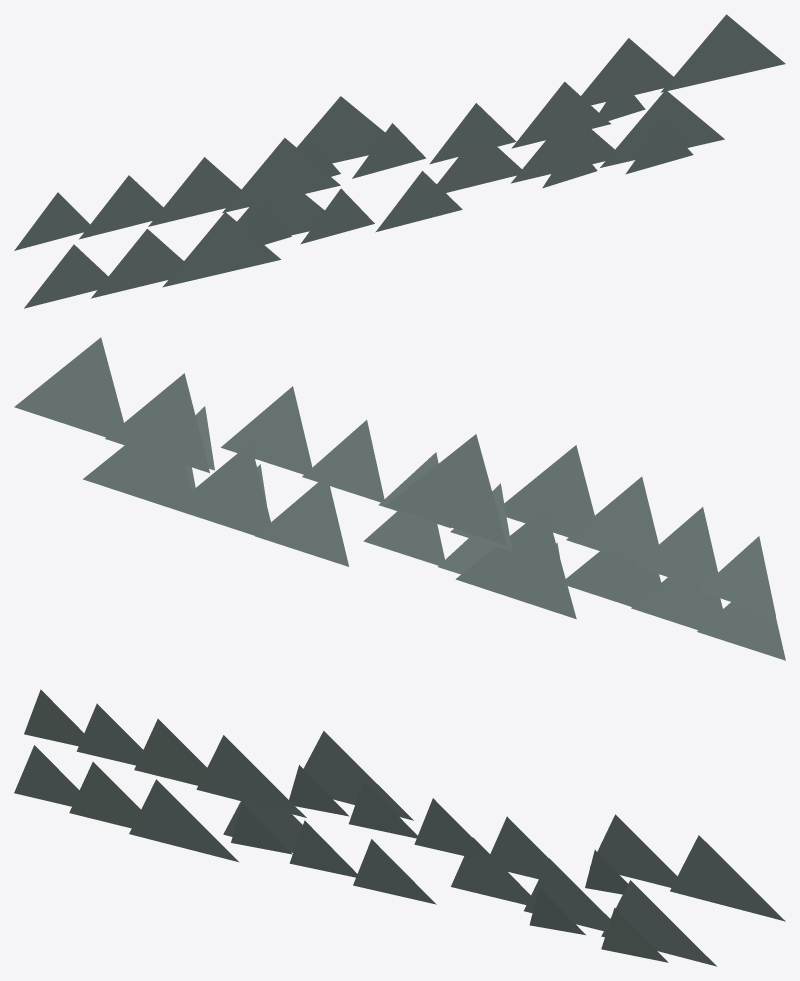
The model's file is prop_bulk_gen_0880_lod0.gltf.
The picture shows the model from 3 angles, top to bottom: view 1: azimuth 30°, elevation 25°; view 2: azimuth 150°, elevation 25°; view 3: azimuth 330°, elevation 25°; orthographic projection.
Parts seen in each view (by area): view 1: prop_bulk_gen_0880_lod0; view 2: prop_bulk_gen_0880_lod0; view 3: prop_bulk_gen_0880_lod0.
Boxes of the visible parts, x1,y1,x2,y2 form: prop_bulk_gen_0880_lod0: [14, 14, 785, 308]; prop_bulk_gen_0880_lod0: [14, 337, 785, 660]; prop_bulk_gen_0880_lod0: [14, 689, 785, 966].
Bounding box in the file's own units: 0.8163 × 0.1458 × 0.0817.
